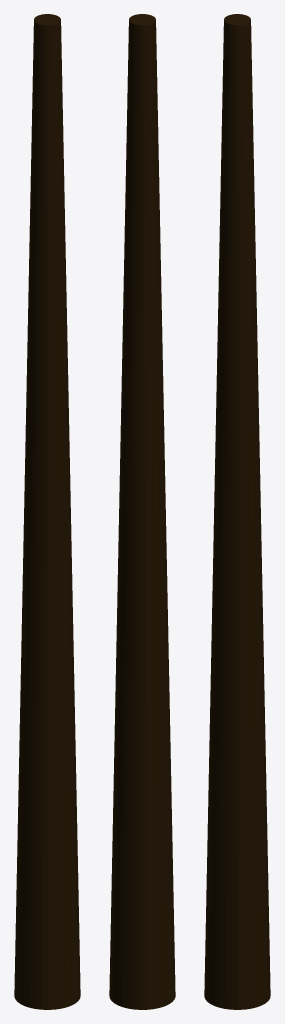
The model's file is Boss_Tree.fbx.
3 renders of one model, left to right at view 1: azimuth 90°, elevation 25°; view 2: azimuth 210°, elevation 25°; view 3: azimuth 270°, elevation 25°, orthographic.
Parts seen in each view (by area): view 1: Cylinder.012; view 2: Cylinder.012; view 3: Cylinder.012.
Boxes of the visible parts, x1,y1,x2,y2 form: Cylinder.012: (14,14,80,1009); Cylinder.012: (109,14,175,1009); Cylinder.012: (204,14,270,1009).
Bounding box in the file's own units: 134 × 2177 × 134.
